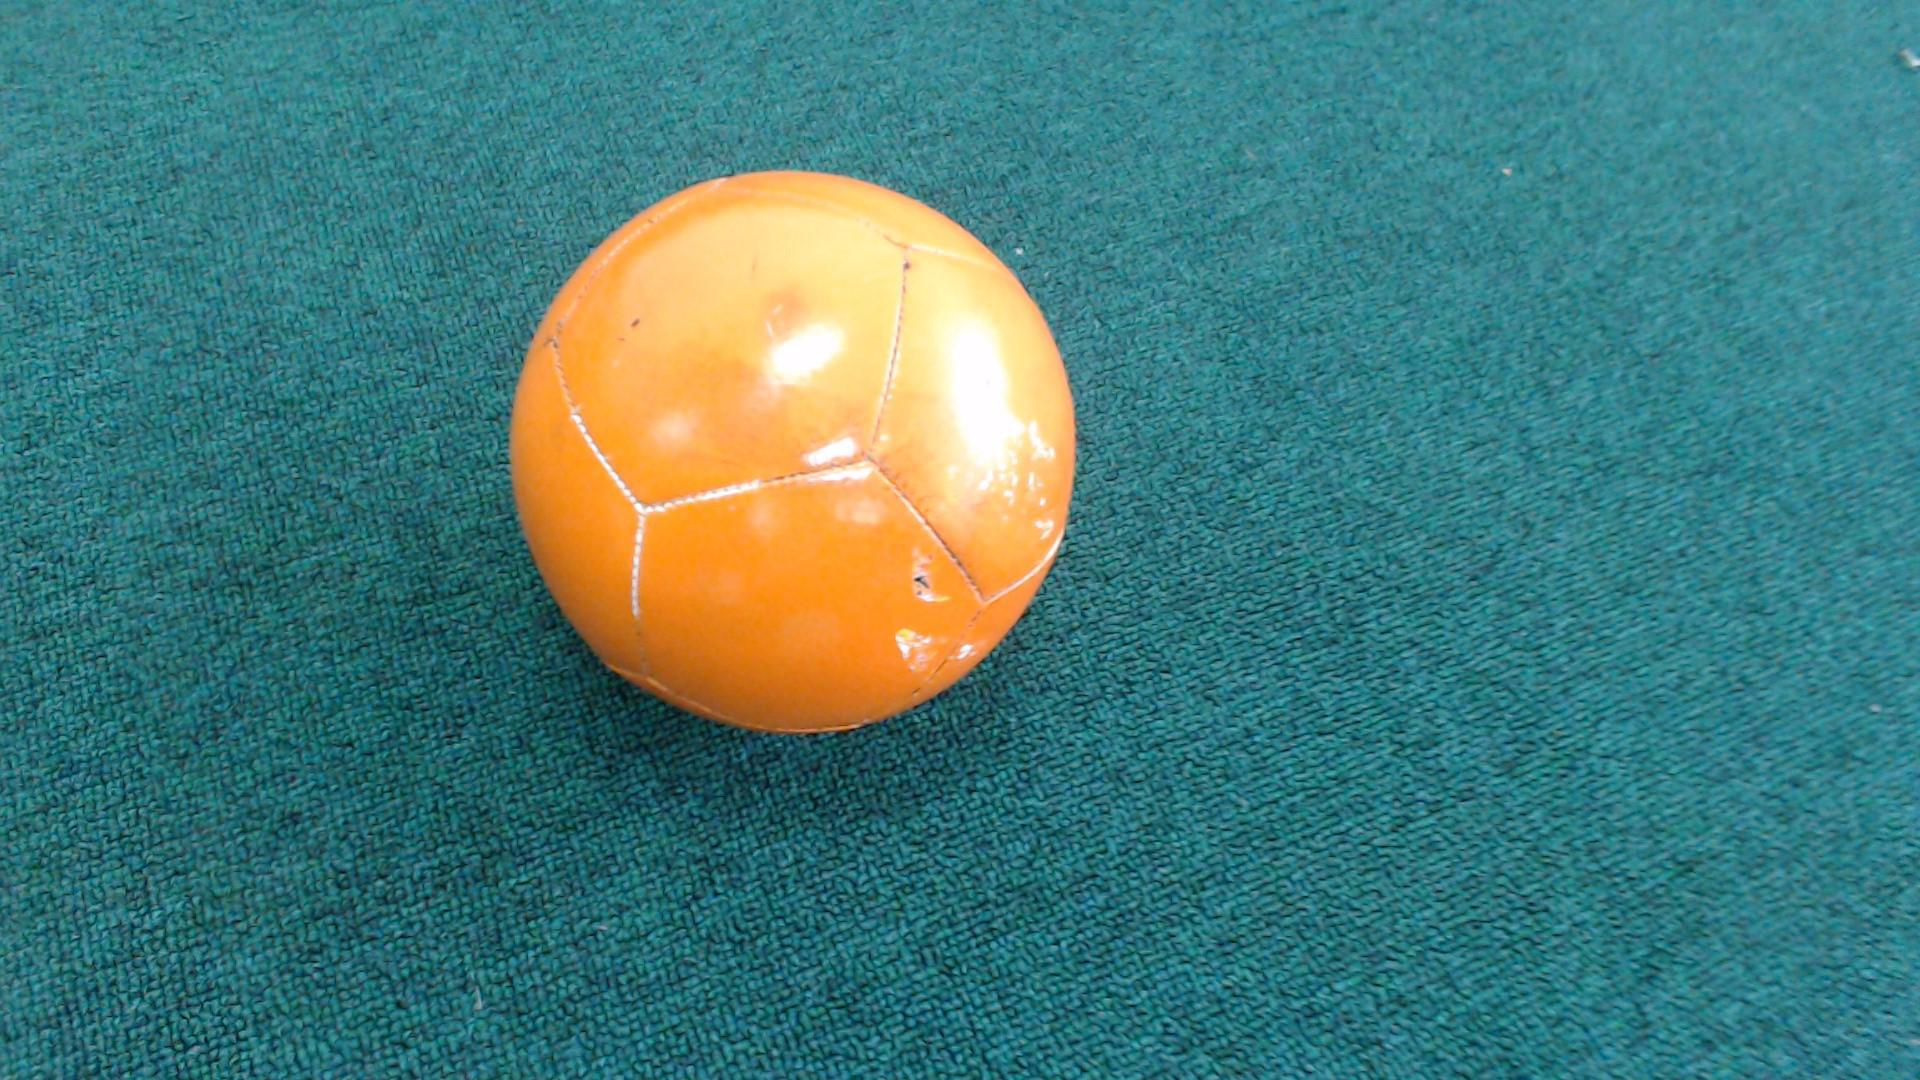bola: (468, 136, 1118, 769)
